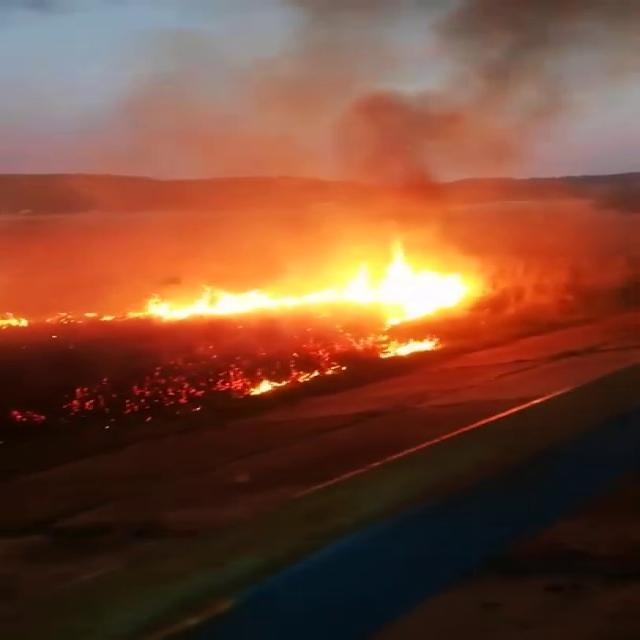Fire: (130, 235, 497, 329)
Smoke: (17, 0, 640, 266)
